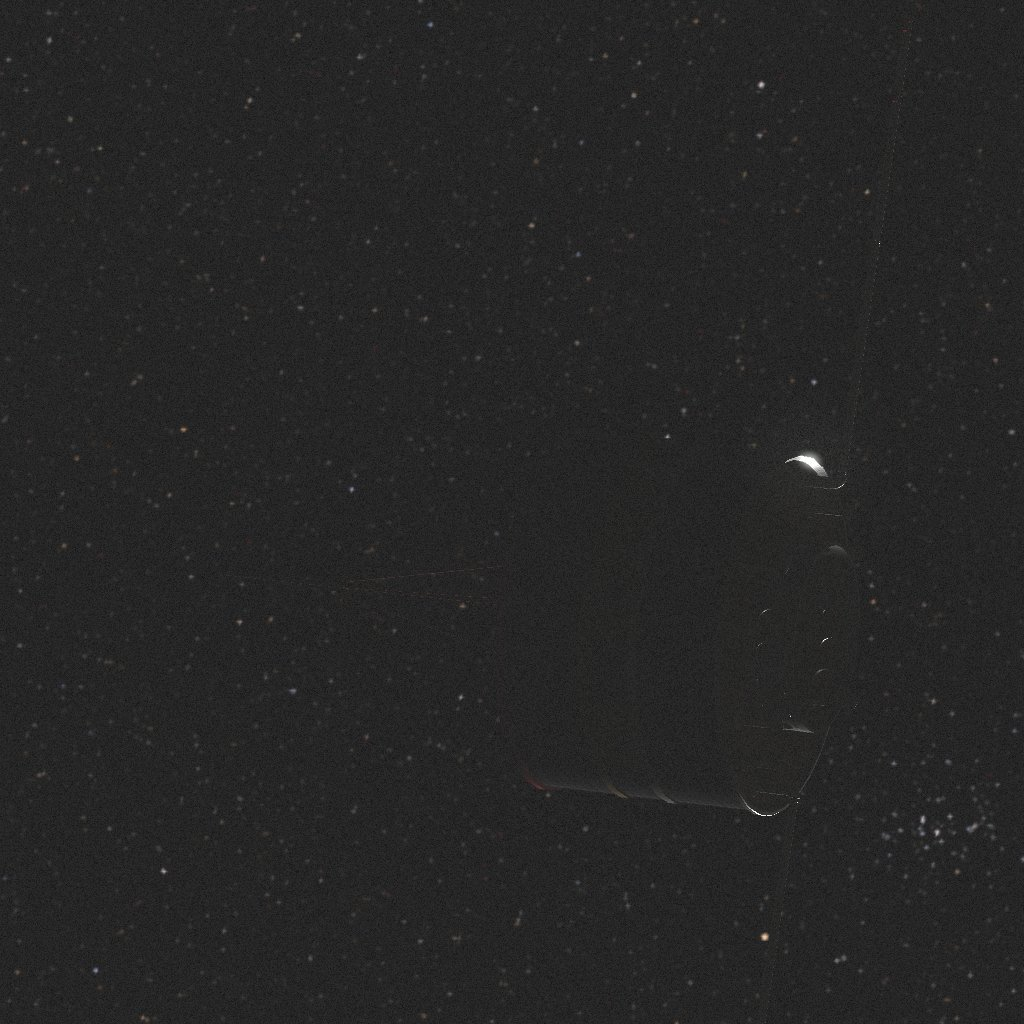double_star: (275, 217, 903, 889)
